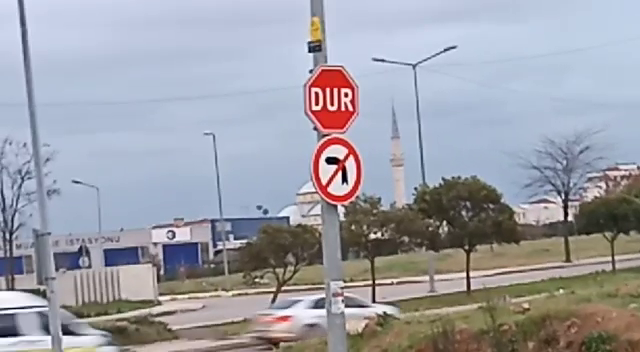no_left: (309, 135, 363, 207)
stop: (301, 62, 361, 136)
